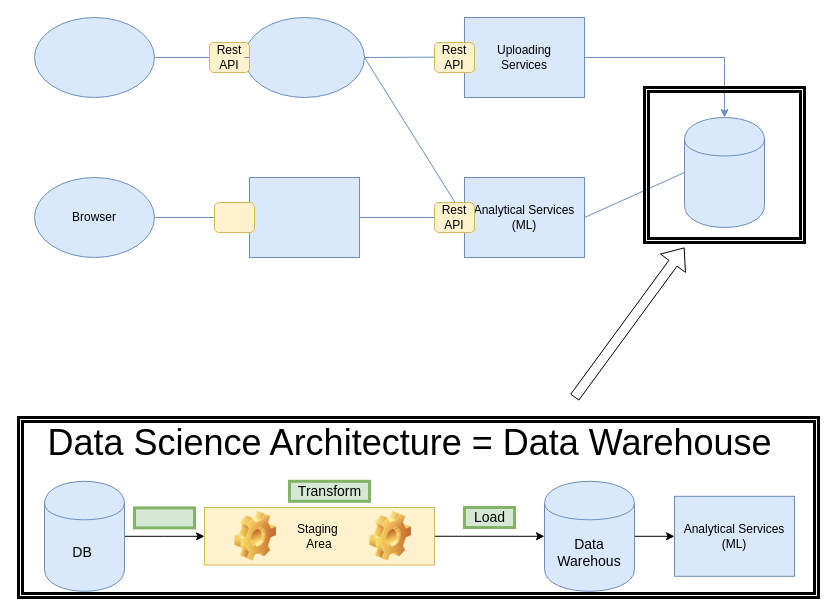
This 837x616 diagram has some shape labels left out. Here are the shapes that lost their labels. From the top down, the centre of each, then its label:
At point (94, 57): "Mobile App".
At point (304, 57): "API Gateway".
At point (724, 172): "DB + DW*".
At point (234, 217): "Web".
At point (304, 217): "Storefront WebApp".
At point (164, 517): "Extract".
